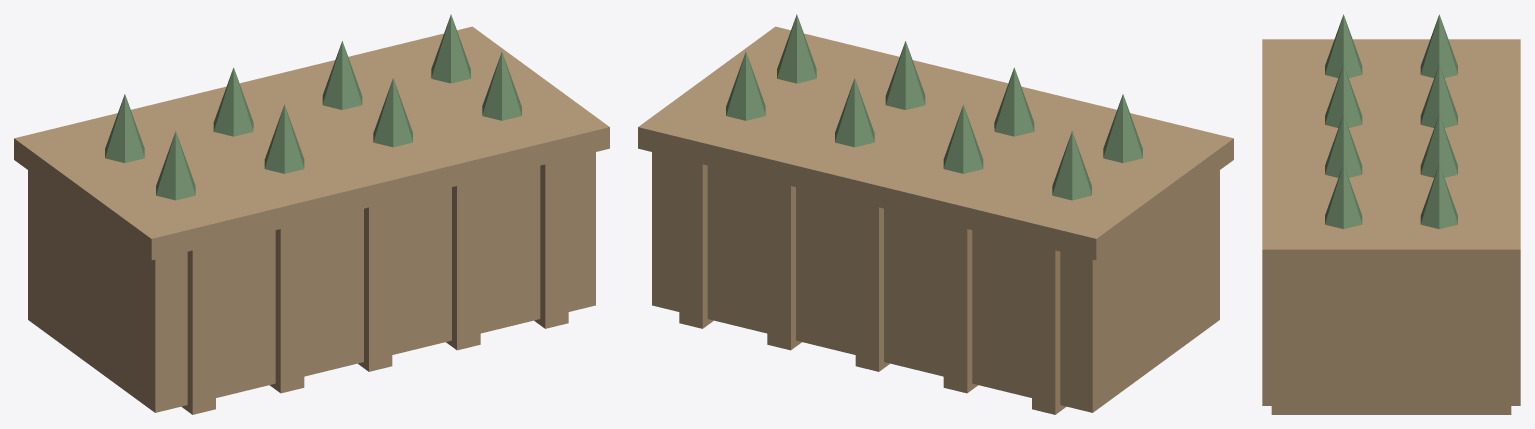
Rendered from wipe-day-survival-island-planter-box-cec76bcf__27478.glb.
The picture shows the model from 3 angles, left to right: view 1: azimuth 30°, elevation 25°; view 2: azimuth 150°, elevation 25°; view 3: azimuth 270°, elevation 25°; orthographic projection. The views are drawn at different scales.
Parts seen in each view (by area): view 1: planter-box; view 2: planter-box; view 3: planter-box.
Part boxes in pixels (left/top/right/bottom): planter-box: left=14, top=14, right=609, bottom=414; planter-box: left=638, top=14, right=1233, bottom=414; planter-box: left=1262, top=14, right=1520, bottom=414.
Size of the model in its own units: 1.56 by 0.8001 by 0.81.
